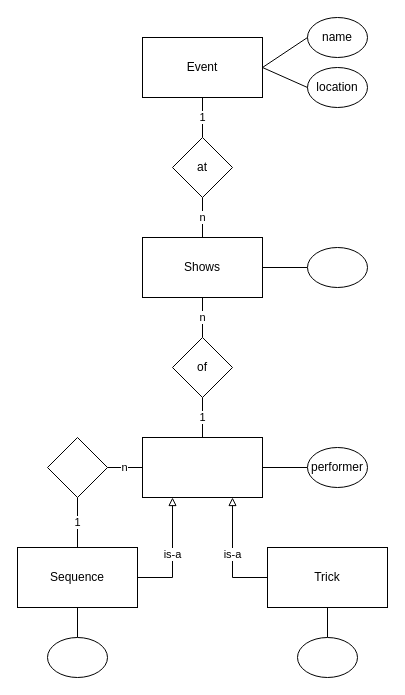
Image size: 405x695. Some labels were removed from this diagram. The centre of each missing label's shape, as x and y in pixels:
budget: (x=327, y=657)
contains: (x=77, y=467)
Performance: (x=202, y=467)
starttime: (x=337, y=267)
title: (x=77, y=657)
